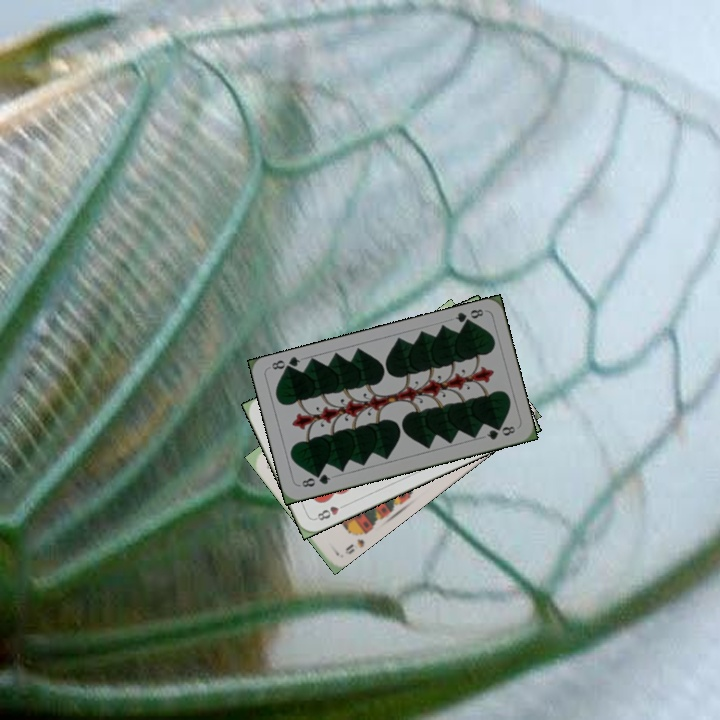G8: (451, 305, 486, 328), (296, 470, 333, 490)
H8: (311, 500, 349, 523)
S9: (341, 524, 371, 557)
